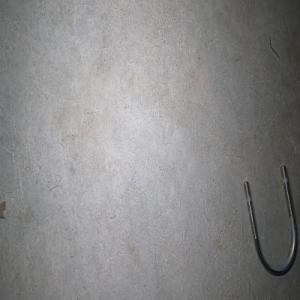ClampPart: (242, 163, 298, 277)
